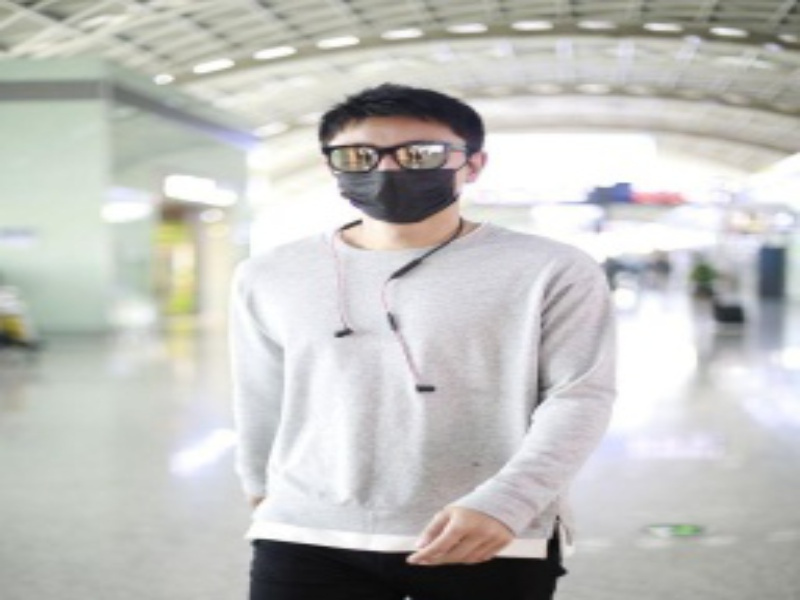ManaoArotava: (305, 80, 500, 234)
